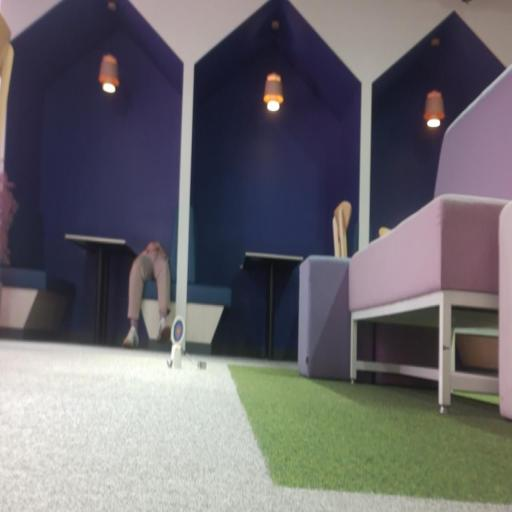target: (171, 316, 184, 344)
